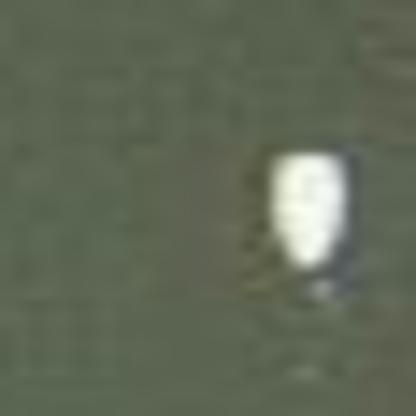ship: (245, 131, 368, 302)
